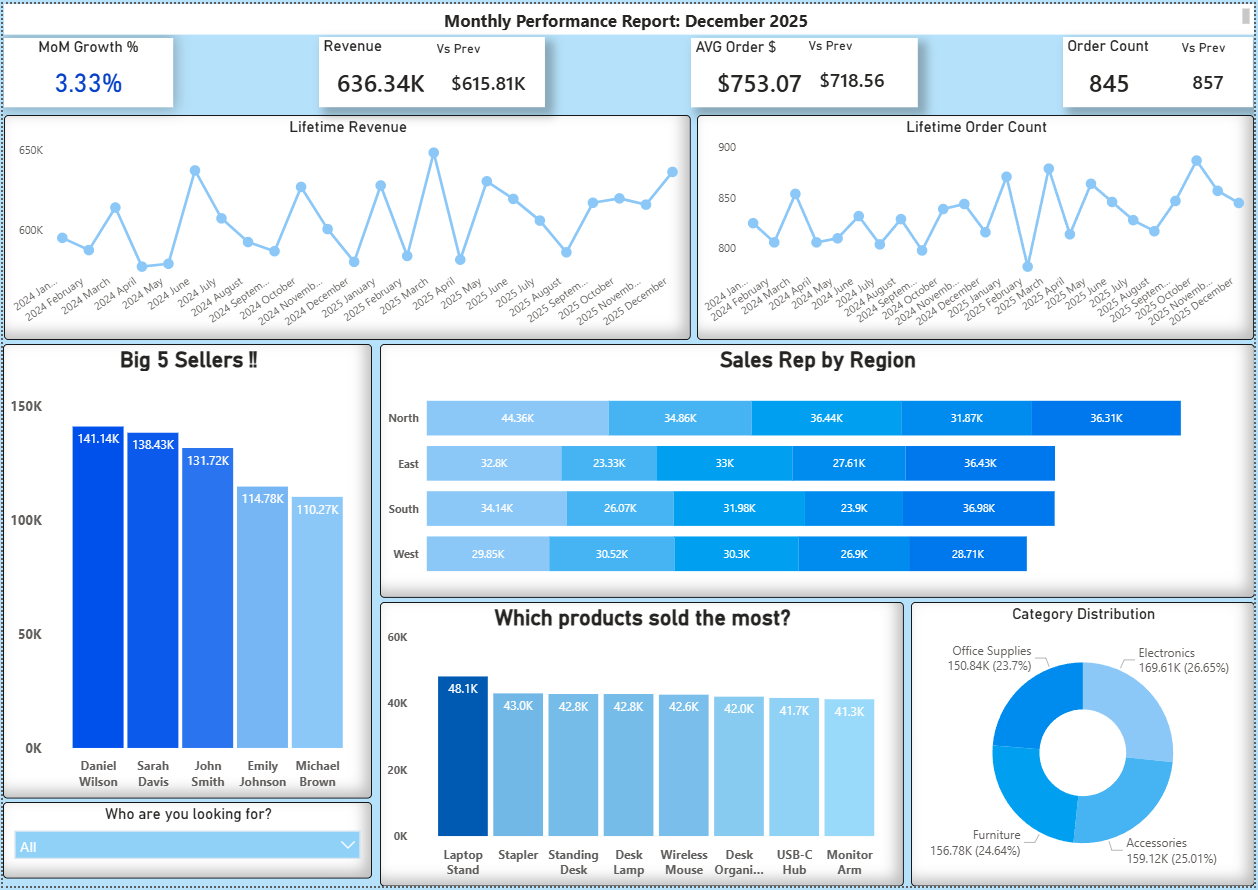

The page's visual inventory and layout, read from the dashboard file:
{"tool":"powerbi","page":{"name":"Page 1","canvas":[1390,980],"ordinal":0},"visuals":[{"type":"cardVisual","title":"AVG Order $","fields":{"Data":["Sales.Latest Month AOV"]},"box":[695.8,42.4,215.3,75.3],"z":0,"group":"g4"},{"type":"cardVisual","title":"Orders Count","fields":{"Data":["Sales.Latest Month Orders"]},"box":[1173,44.5,217.2,73.7],"z":0,"group":"g2"},{"type":"card","title":"Current Month","fields":{"Values":["Sales.Latest Month Revenue"]},"box":[585.6,189,217.5,64],"z":0},{"type":"cardVisual","title":"Vs Prev","fields":{"Data":["Sales.Prior Month Orders"]},"box":[1305.5,53.9,78.2,55],"z":1000,"group":"g2"},{"type":"cardVisual","title":"Vs Prev","fields":{"Data":["Sales.Prior Month AOV"]},"box":[830.6,55.8,77.5,56.1],"z":1000,"group":"g4"},{"type":"card","title":"Avg Order Value","fields":{"Values":["Sales.Average Order Value"]},"box":[803,231.7,160.6,64],"z":1000},{"type":"lineChart","title":"Lifetime Revenue","fields":{"Y":["Sales.Total Revenue"],"Category":["Sales.order_date.Variation.Date Hierarchy.Year","Sales.order_date.Variation.Date Hierarchy.Month"]},"box":[1.1,123,1389.4,250.3],"z":2000},{"type":"columnChart","title":"Big  5 Sellers !!","fields":{"Category":["Sales.sales_rep"],"Y":["Sales.Latest Month Revenue"]},"box":[0,377.6,410.5,504.8],"z":3000},{"type":"barChart","title":"Sales Rep by Region","fields":{"Category":["Sales.region"],"Y":["Sales.Latest Month Revenue"],"Series":["Sales.sales_rep"]},"box":[418.9,377.6,971.5,282.1],"z":4000},{"type":"donutChart","title":"Category Distribution","fields":{"Category":["Sales.product_category"],"Y":["Sales.Latest Month Revenue"]},"box":[1008.6,663.9,381.8,316.1],"z":5000},{"type":"textbox","box":[1.1,0,1389.4,33.9],"z":6000},{"type":"columnChart","title":"Which products sold the most?","fields":{"Category":["Sales.product_name"],"Y":["Sales.Latest Month Revenue"]},"box":[418.9,663.9,582.3,316.1],"z":7000},{"type":"slicer","title":"Who are you looking for?","fields":{"Values":["Sales.sales_rep"]},"box":[0,895.2,410.5,84.8],"z":8000},{"type":"cardVisual","title":"MoM Growth %","fields":{"Data":["Sales.MoM Growth %"]},"box":[0,43.5,204.7,74.2],"z":9000},{"type":"group","id":"g1","title":"Group 2","box":[695.8,42.4,215.3,75.3],"z":10000},{"type":"cardVisual","title":"Revenue","fields":{"Data":["Sales.Latest Month Revenue"]},"box":[215.3,43.5,254.5,74.2],"z":10000,"group":"g3"},{"type":"group","id":"g2","title":"Group 3","box":[1173,44.5,217.4,73.2],"z":11000},{"type":"cardVisual","title":"Vs Prev","fields":{"Data":["Sales.Prior Month Revenue"]},"box":[361.7,53,96.5,55.2],"z":11000,"group":"g3"},{"type":"cardVisual","title":"MoM Order %","fields":{"Data":["Sales.MoM Order %"]},"box":[988.5,43.5,170.8,74.2],"z":13000},{"type":"cardVisual","title":"MoM AOV %","fields":{"Data":["Sales.MoM AOV %"]},"box":[525,43.5,160.2,74.2],"z":14000},{"type":"group","id":"g3","title":"Group 4","box":[215.3,43.5,254.5,74.2],"z":14001},{"type":"group","id":"g4","title":"Group 1","box":[695.8,42.4,215.3,75.3],"z":15011,"group":"g1"}]}

Visuals, with their boxes in screenshot pixels (x1, y1, x2, y2), scaled from the page's 1390x980 canvas onto the 1258x890 screenshot:
"AVG Order $" cardVisual: region(630, 39, 825, 107)
"Orders Count" cardVisual: region(1062, 40, 1257, 107)
"Current Month" card: region(530, 172, 727, 230)
"Vs Prev" cardVisual: region(1182, 49, 1252, 99)
"Vs Prev" cardVisual: region(752, 51, 822, 102)
"Avg Order Value" card: region(727, 210, 872, 269)
"Lifetime Revenue" lineChart: region(1, 112, 1257, 339)
"Big  5 Sellers !!" columnChart: region(0, 343, 372, 801)
"Sales Rep by Region" barChart: region(379, 343, 1257, 599)
"Category Distribution" donutChart: region(913, 603, 1257, 889)
textbox: region(1, 0, 1257, 31)
"Which products sold the most?" columnChart: region(379, 603, 906, 889)
"Who are you looking for?" slicer: region(0, 813, 372, 889)
"MoM Growth %" cardVisual: region(0, 40, 185, 107)
"Group 2" group: region(630, 39, 825, 107)
"Revenue" cardVisual: region(195, 40, 425, 107)
"Group 3" group: region(1062, 40, 1257, 107)
"Vs Prev" cardVisual: region(327, 48, 415, 98)
"MoM Order %" cardVisual: region(895, 40, 1049, 107)
"MoM AOV %" cardVisual: region(475, 40, 620, 107)
"Group 4" group: region(195, 40, 425, 107)
"Group 1" group: region(630, 39, 825, 107)
